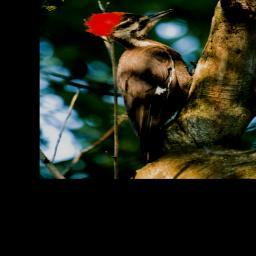Woodpecker: (84, 7, 204, 164)
